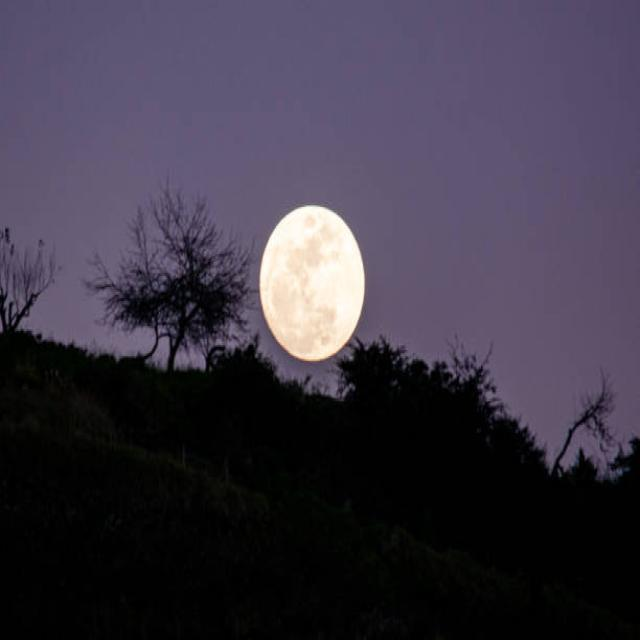moon: (254, 196, 368, 364)
